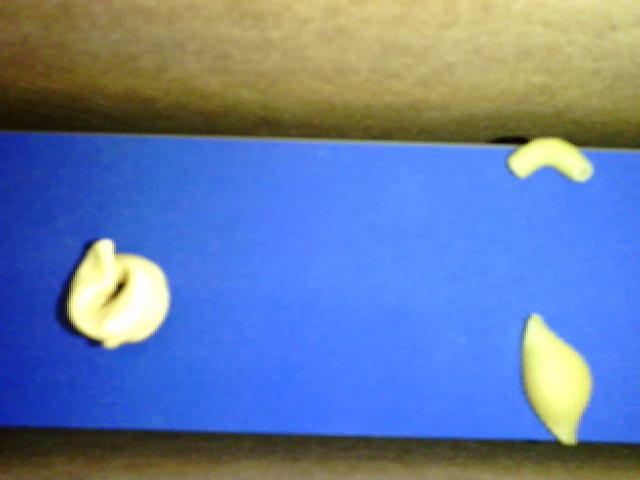elbow: (508, 137, 594, 181)
shell: (522, 311, 591, 445)
tortellini: (67, 237, 171, 346)
